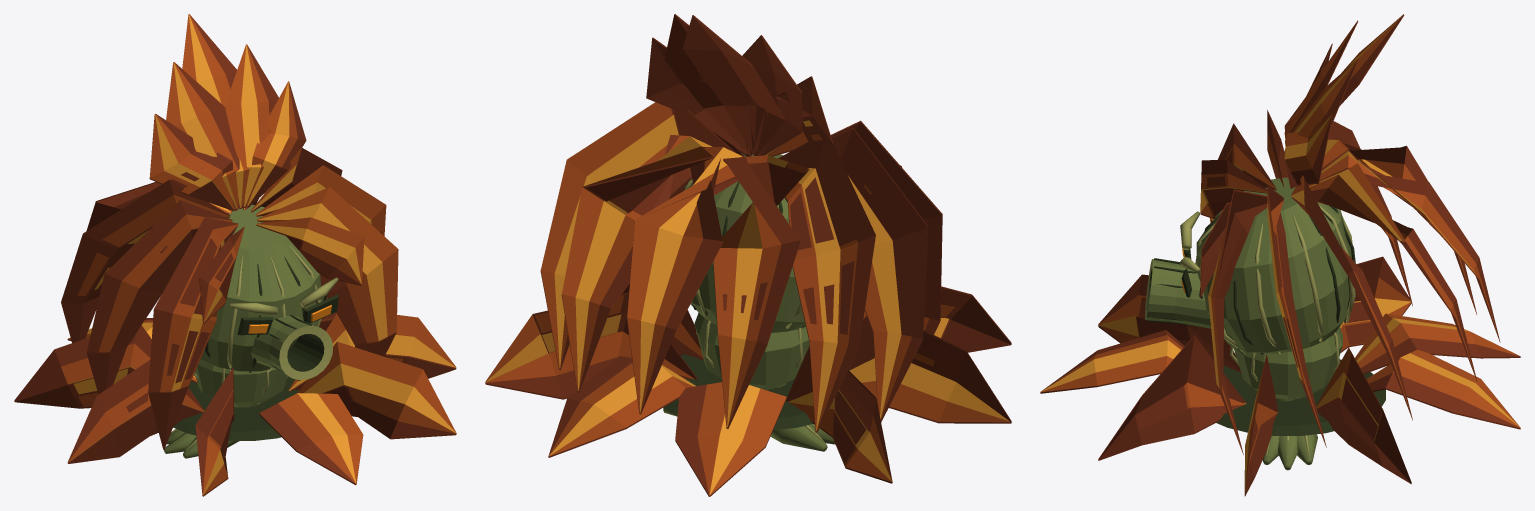
File: mad-scrub.glb
3 views of the same model, side by side, from view 1: azimuth 30°, elevation 25°; view 2: azimuth 150°, elevation 25°; view 3: azimuth 270°, elevation 25° (orthographic). The views are drawn at different scales.
Parts seen in each view (by area): view 1: MadScrub.0.10.drooping mantle blade.001, MadScrub.0.10.drooping mantle blade, MadScrub.0.04.faceted moss bark seed, MadScrub.0.00.flower rosette.001, MadScrub.0.10.drooping mantle blade.008, MadScrub.0.10.drooping mantle blade.002, MadScrub.0.00.flower rosette, MadScrub.0.00.flower rosette.007, MadScrub.0.00.flower rosette.006, MadScrub.0.13.crown spear leaf, MadScrub.0.13.crown spear leaf.001, MadScrub.0.13.crown spear leaf.003 (+12 smaller); view 2: MadScrub.0.10.drooping mantle blade.002, MadScrub.0.10.drooping mantle blade.003, MadScrub.0.10.drooping mantle blade.004, MadScrub.0.10.drooping mantle blade.005, MadScrub.0.10.drooping mantle blade.001, MadScrub.0.10.drooping mantle blade.006, MadScrub.0.00.flower rosette.007, MadScrub.0.00.flower rosette.005, MadScrub.0.00.flower rosette.003, MadScrub.0.00.flower rosette.004, MadScrub.0.00.flower rosette.006, MadScrub.0.13.crown spear leaf.002 (+11 smaller); view 3: MadScrub.0.04.faceted moss bark seed, MadScrub.0.00.flower rosette.001, MadScrub.0.00.flower rosette.004, MadScrub.0.00.flower rosette.003, MadScrub.0.10.drooping mantle blade.005, MadScrub.0.00.flower rosette.005, MadScrub.0.00.flower rosette, MadScrub.0.10.drooping mantle blade.008, MadScrub.0.10.drooping mantle blade.004, MadScrub.0.14.root heart, MadScrub.0.00.flower rosette.008, MadScrub.0.10.drooping mantle blade.007 (+18 smaller).
Boxes of the visible parts, left/top/right/bottom form: MadScrub.0.10.drooping mantle blade.001: left=86, top=200, right=232, bottom=394; MadScrub.0.10.drooping mantle blade: left=148, top=217, right=238, bottom=449; MadScrub.0.04.faceted moss bark seed: left=200, top=204, right=323, bottom=371; MadScrub.0.00.flower rosette.001: left=298, top=341, right=456, bottom=439; MadScrub.0.10.drooping mantle blade.008: left=257, top=187, right=398, bottom=356; MadScrub.0.10.drooping mantle blade.002: left=61, top=179, right=230, bottom=342; MadScrub.0.00.flower rosette: left=259, top=393, right=363, bottom=485; MadScrub.0.00.flower rosette.007: left=67, top=360, right=204, bottom=463; MadScrub.0.00.flower rosette.006: left=14, top=325, right=151, bottom=408; MadScrub.0.13.crown spear leaf: left=149, top=113, right=235, bottom=210; MadScrub.0.13.crown spear leaf.001: left=166, top=62, right=239, bottom=209; MadScrub.0.13.crown spear leaf.003: left=225, top=44, right=278, bottom=207; MadScrub.0.10.drooping mantle blade.002: left=778, top=139, right=875, bottom=432; MadScrub.0.10.drooping mantle blade.003: left=713, top=155, right=809, bottom=428; MadScrub.0.10.drooping mantle blade.004: left=627, top=147, right=743, bottom=414; MadScrub.0.10.drooping mantle blade.005: left=561, top=134, right=713, bottom=392; MadScrub.0.10.drooping mantle blade.001: left=831, top=127, right=928, bottom=422; MadScrub.0.10.drooping mantle blade.006: left=540, top=102, right=736, bottom=369; MadScrub.0.00.flower rosette.007: left=848, top=315, right=1011, bottom=423; MadScrub.0.00.flower rosette.005: left=675, top=382, right=786, bottom=496; MadScrub.0.00.flower rosette.003: left=485, top=292, right=698, bottom=399; MadScrub.0.00.flower rosette.004: left=548, top=356, right=695, bottom=457; MadScrub.0.00.flower rosette.006: left=786, top=346, right=892, bottom=483; MadScrub.0.13.crown spear leaf.002: left=682, top=15, right=785, bottom=155; MadScrub.0.04.faceted moss bark seed: left=1196, top=177, right=1351, bottom=353; MadScrub.0.00.flower rosette.001: left=1098, top=335, right=1246, bottom=460; MadScrub.0.00.flower rosette.004: left=1366, top=349, right=1520, bottom=429; MadScrub.0.00.flower rosette.003: left=1316, top=347, right=1411, bottom=484; MadScrub.0.10.drooping mantle blade.005: left=1309, top=163, right=1477, bottom=381; MadScrub.0.00.flower rosette.005: left=1355, top=313, right=1520, bottom=373; MadScrub.0.00.flower rosette: left=1040, top=330, right=1184, bottom=393; MadScrub.0.10.drooping mantle blade.008: left=1208, top=189, right=1267, bottom=454; MadScrub.0.10.drooping mantle blade.004: left=1308, top=151, right=1500, bottom=342; MadScrub.0.14.root heart: left=1233, top=327, right=1342, bottom=399; MadScrub.0.00.flower rosette.008: left=1098, top=274, right=1241, bottom=372; MadScrub.0.10.drooping mantle blade.007: left=1267, top=185, right=1326, bottom=447.
Bounding box in the file's own units: 64.08 × 60.85 × 63.08.
